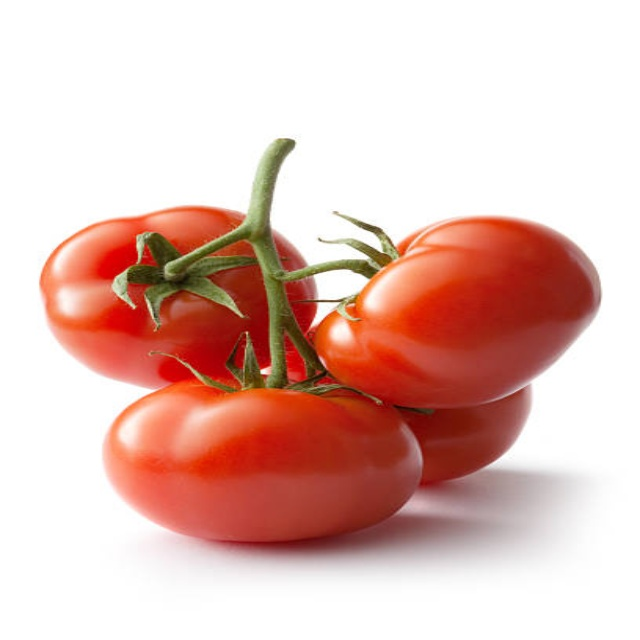tomato: (112, 371, 428, 557), (315, 210, 602, 409), (49, 203, 322, 384)
